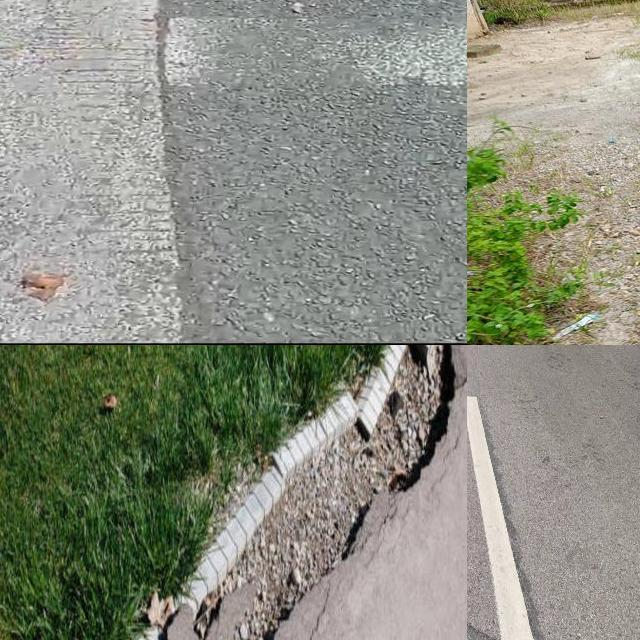Pinggir: (115, 345, 462, 640)
Sambungan: (0, 0, 186, 345)
